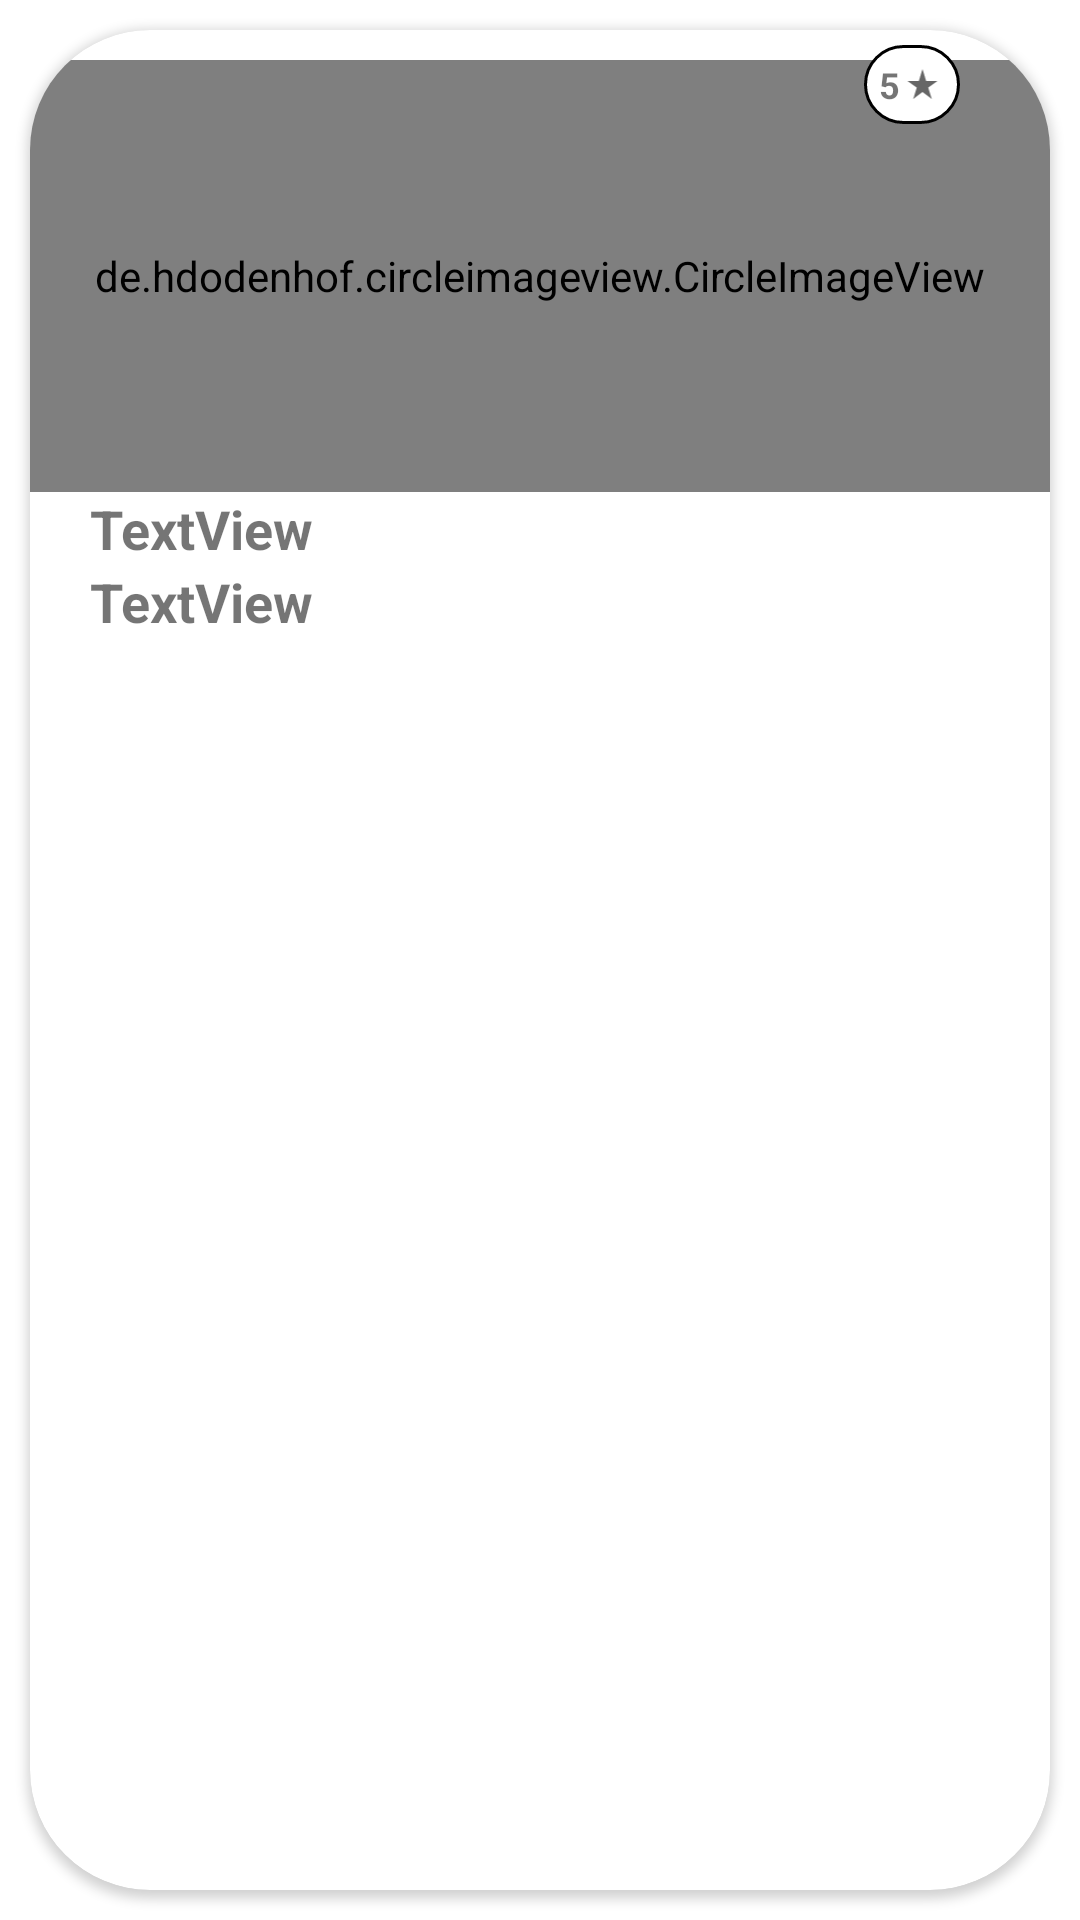

Icons on this 1080 x 1920 Android screen, each with its box as (x1, y1, x2, y2):
star: (907, 70, 937, 99)
